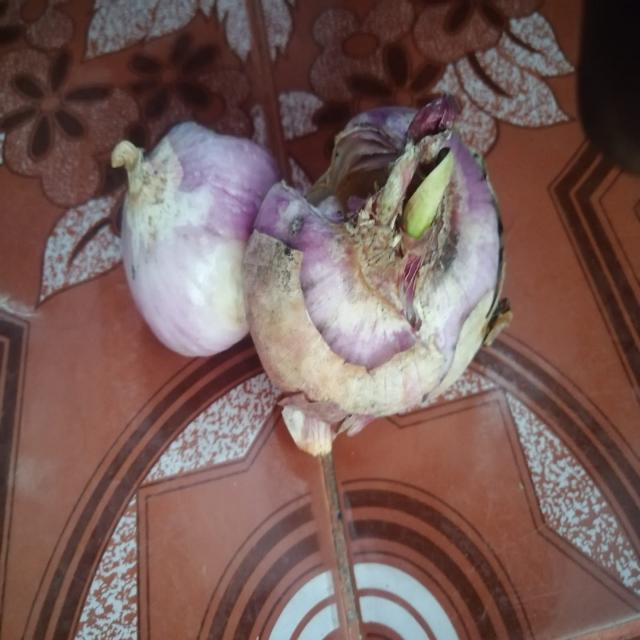rotten: (302, 144, 358, 228)
sprouting: (374, 166, 446, 240)
